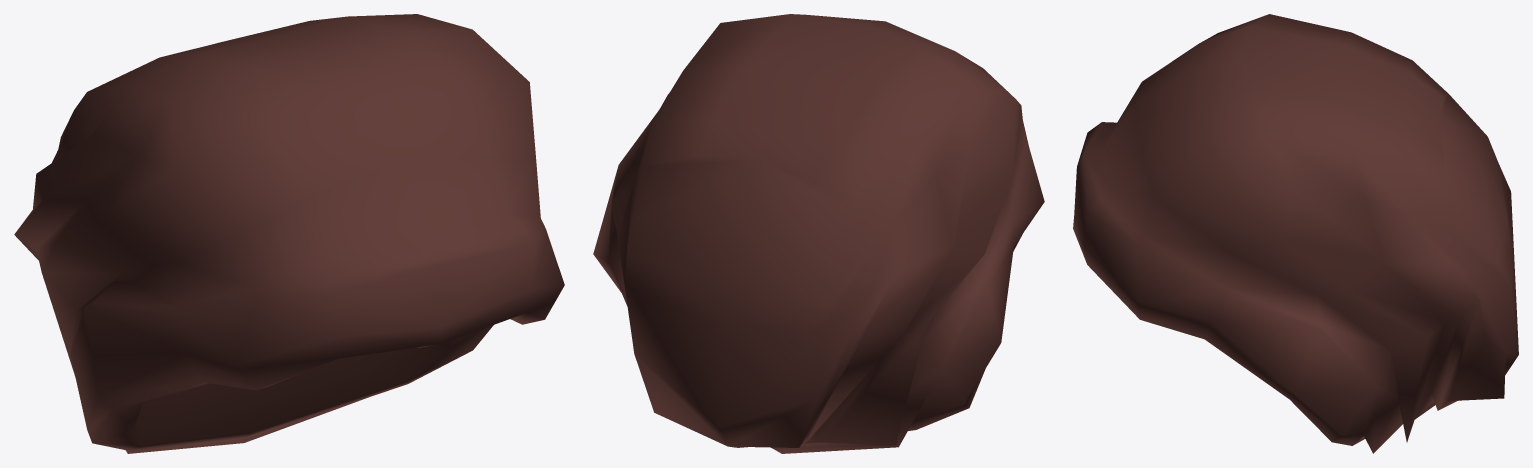
File: hat_bini.fbx
3 renders of one model, left to right at view 1: azimuth 30°, elevation 25°; view 2: azimuth 150°, elevation 25°; view 3: azimuth 270°, elevation 25°, orthographic. The views are drawn at different scales.
Parts seen in each view (by area): view 1: Hat01; view 2: Hat01; view 3: Hat01.
Part boxes in pixels (left/top/right/bottom): Hat01: left=14, top=14, right=564, bottom=453; Hat01: left=593, top=14, right=1044, bottom=453; Hat01: left=1073, top=14, right=1518, bottom=453.
Bounding box in the file's own units: 0.8757 × 0.8711 × 0.9512.
